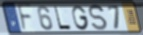6: (37, 5, 54, 31)
7: (106, 5, 121, 31)
F: (16, 3, 34, 34)
G: (71, 5, 90, 31)
L: (53, 5, 73, 31)
S: (88, 4, 109, 32)
